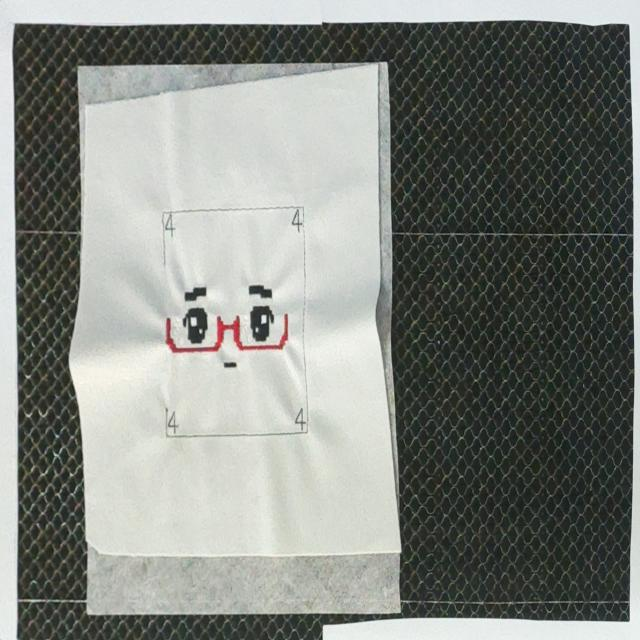4 -: (293, 406, 308, 432), (164, 215, 177, 242), (168, 409, 181, 436), (290, 210, 302, 236)
